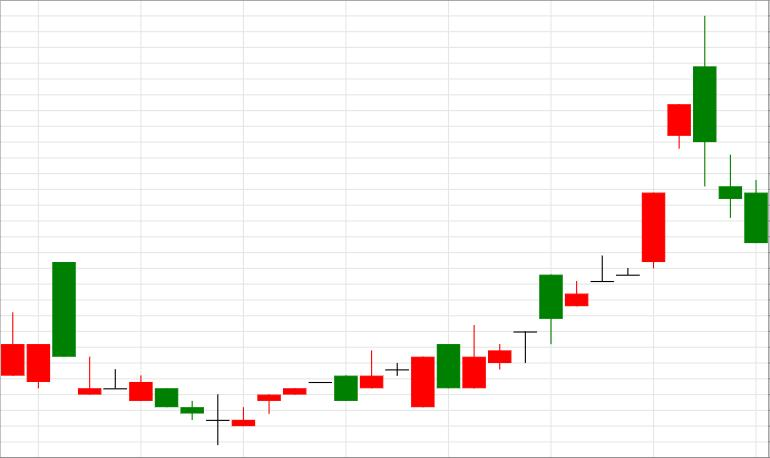bearish_engulfing_fall: (463, 16, 716, 389)
